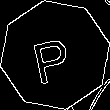P_N: (32, 26, 78, 84)
